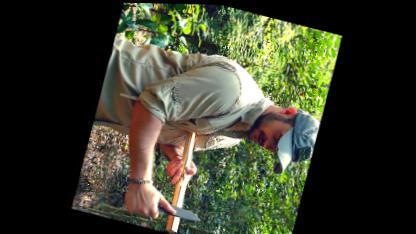knife: (132, 188, 208, 230)
